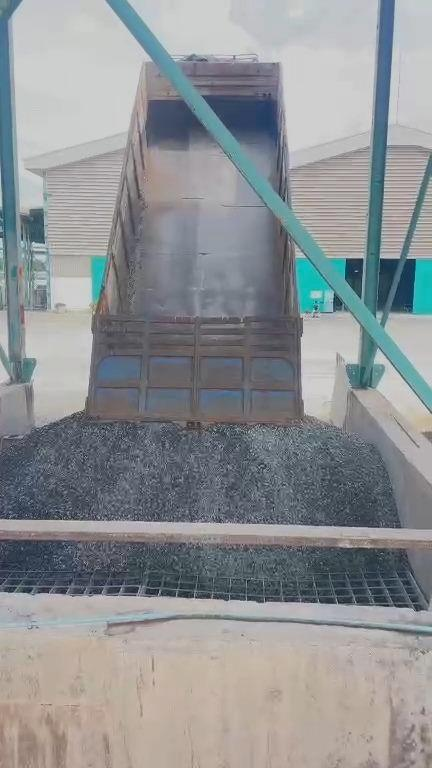gravel: (0, 414, 398, 526), (1, 543, 404, 577)
